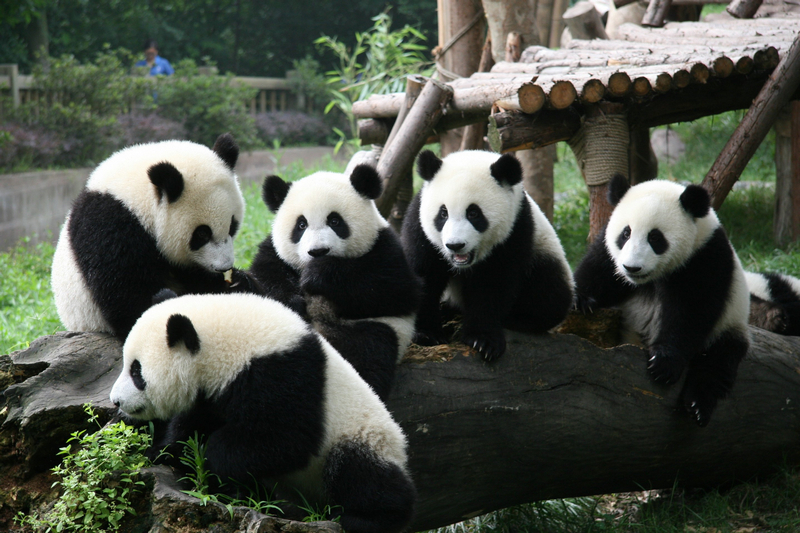panda: (113, 286, 425, 533), (574, 172, 756, 423), (46, 131, 261, 339), (244, 166, 418, 397), (402, 144, 581, 364)
